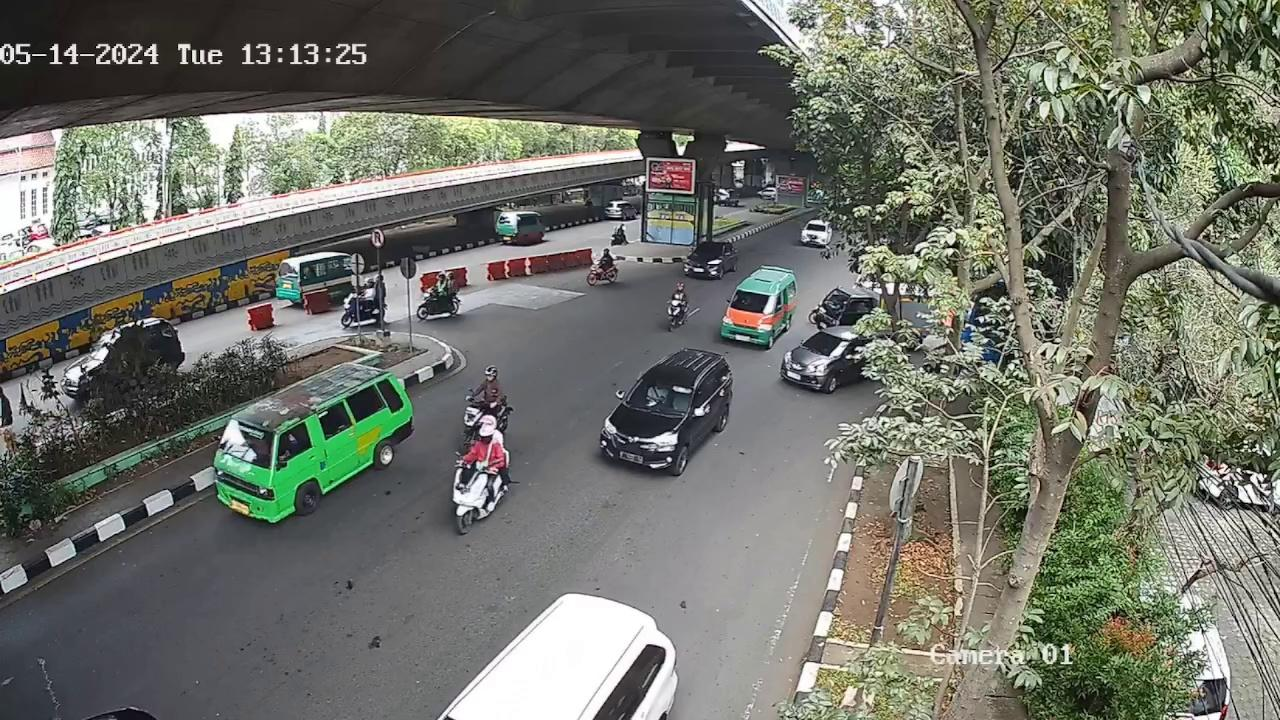pakai: (645, 387, 667, 406)
windshield: (206, 419, 289, 469), (625, 374, 697, 415)
